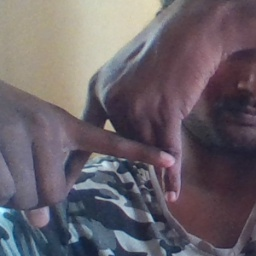H: (48, 82, 194, 209)
